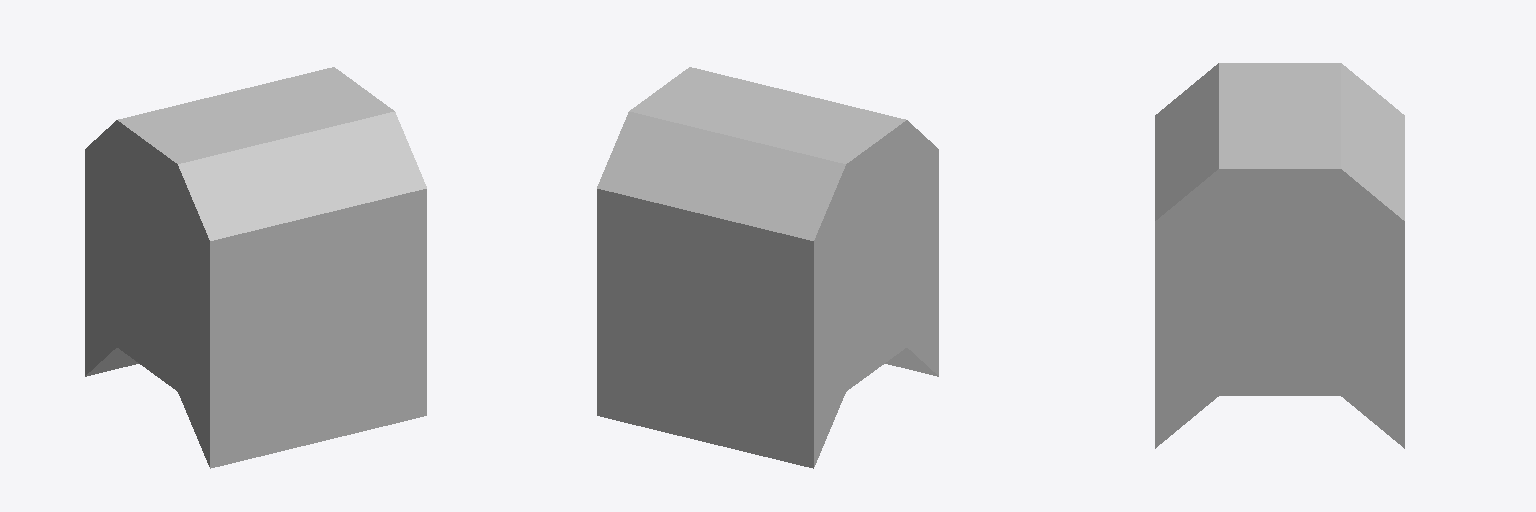
File: WeirdBox.obj
The picture shows the model from 3 angles: view 1: azimuth 30°, elevation 25°; view 2: azimuth 150°, elevation 25°; view 3: azimuth 270°, elevation 25°; orthographic projection.
Parts seen in each view (by area): view 1: Cube; view 2: Cube; view 3: Cube.
Boxes of the visible parts, box(x1,y1,x2,y2) form: Cube: box(85, 67, 426, 468); Cube: box(597, 67, 938, 468); Cube: box(1155, 63, 1404, 448).
Bounding box in the file's own units: 2 × 2.47 × 2.